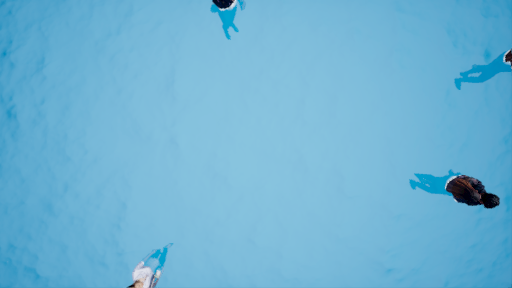person: (408, 167, 504, 215), (129, 242, 186, 287)
